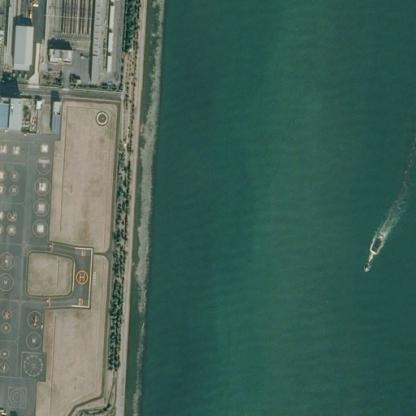ship: (369, 230, 384, 253), (363, 260, 369, 271)
